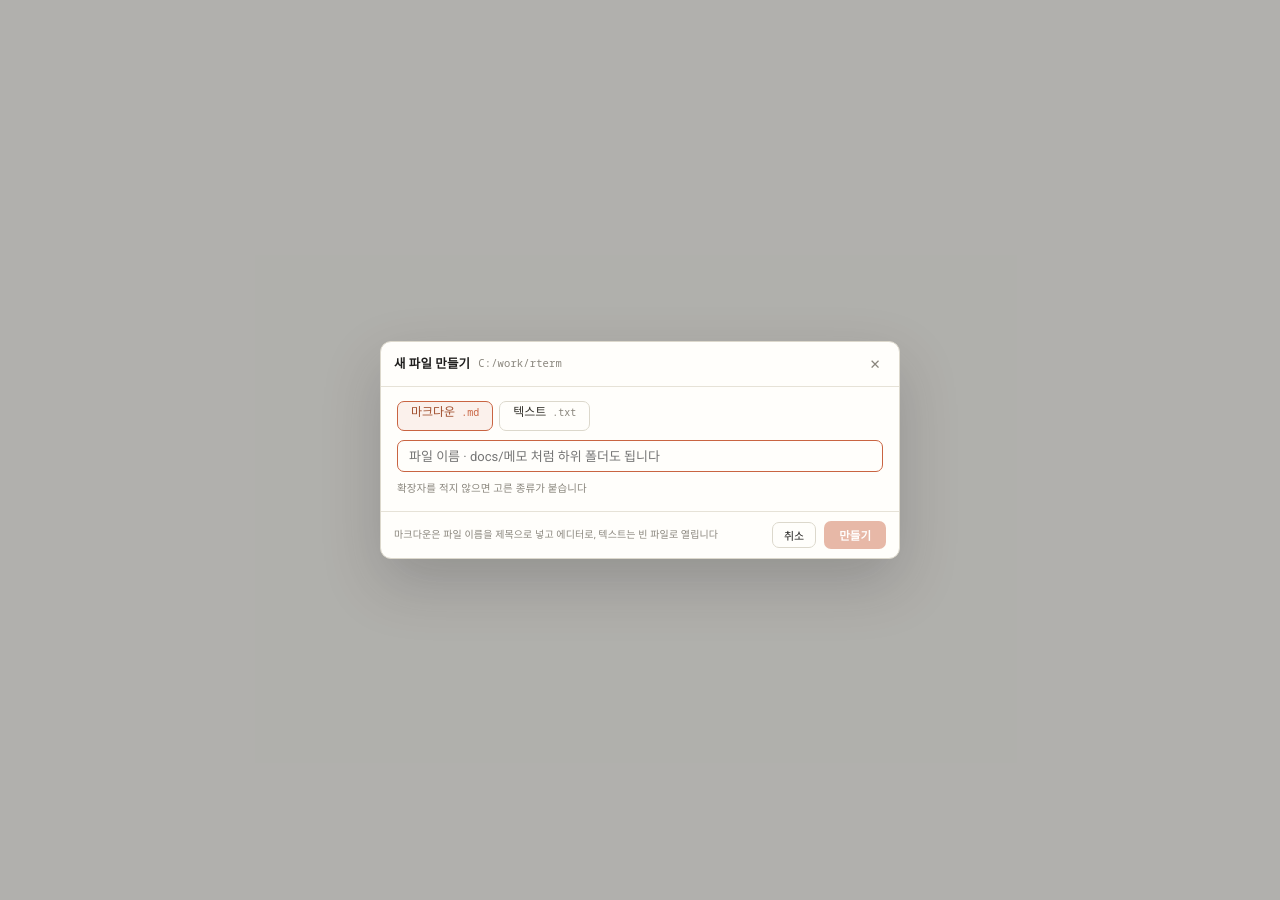
Test: NewFileDialog › 종류를 바꾸면 붙는 확장자도 바뀐다
Type "메모" into the field with class "newfile__name". click: (640,456)
box: [397,440,883,472]
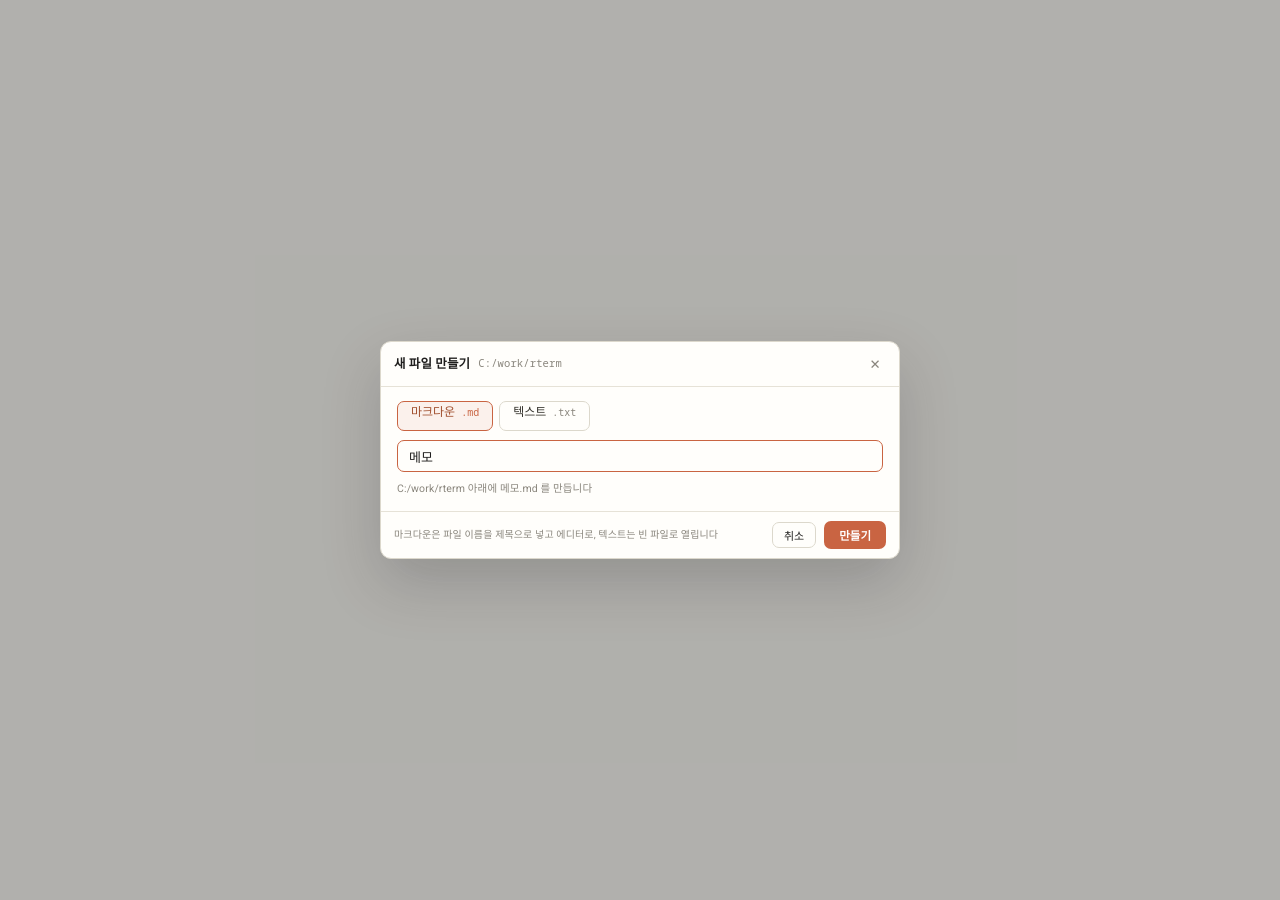
Click the button with class "newfile__kind" showing "텍스트 .txt". click: (545,416)
box: [499,401,590,431]
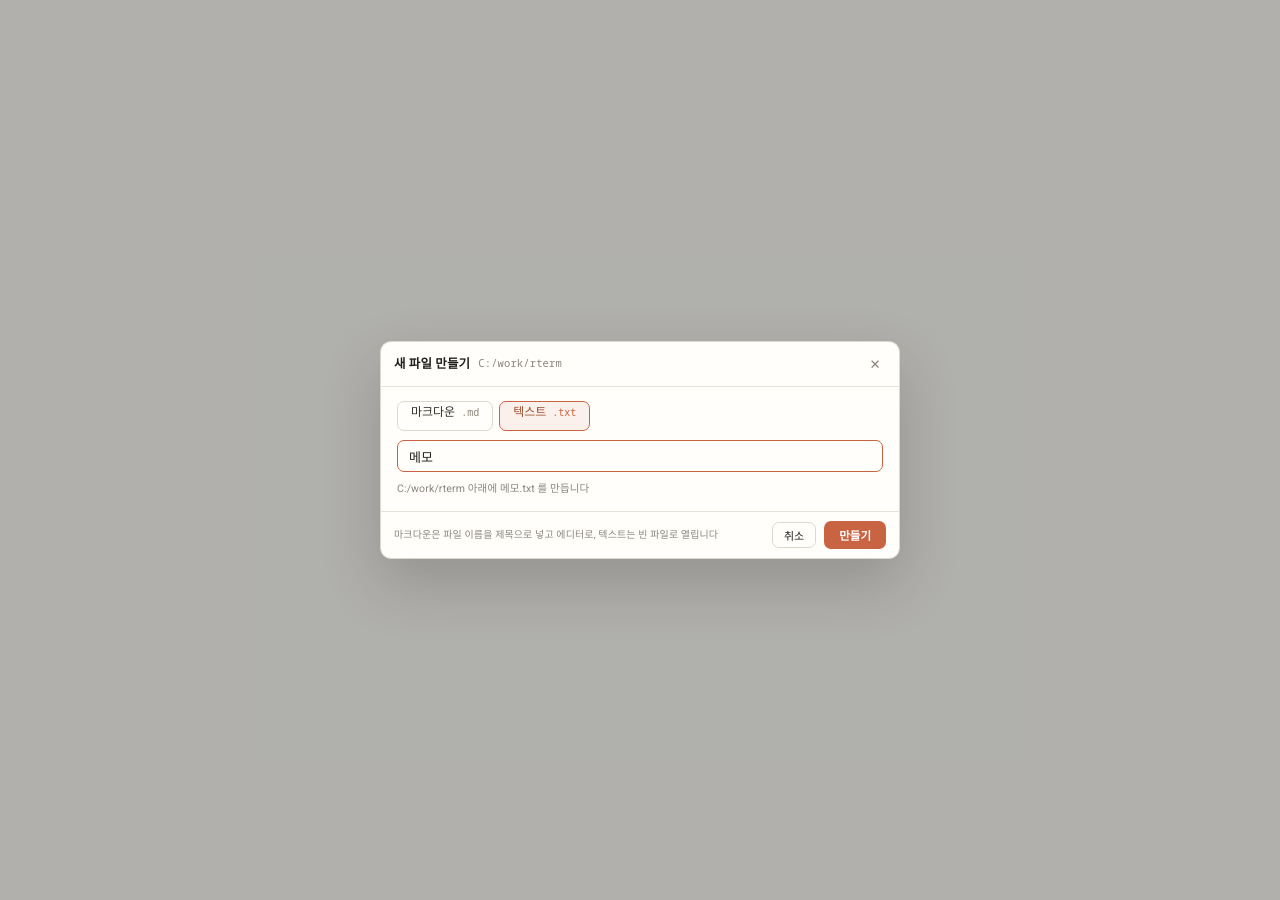
Expected: the text with class "newfile__note" shows "메모.txt", [397,482,589,495]
